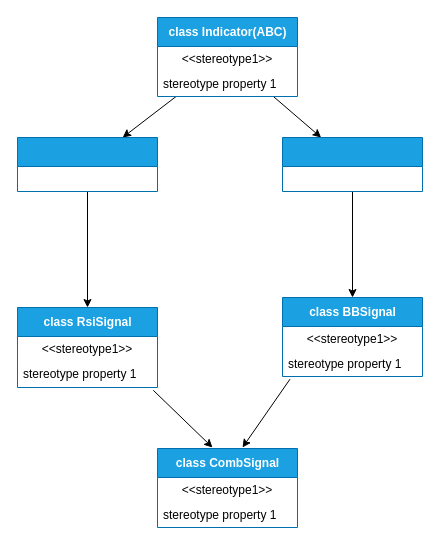
This 440x545 diagram has some shape labels left out. Each missing label, with the centre of its shape:
"class BB" goes at point (352, 164).
"class Rsi" goes at point (87, 164).
